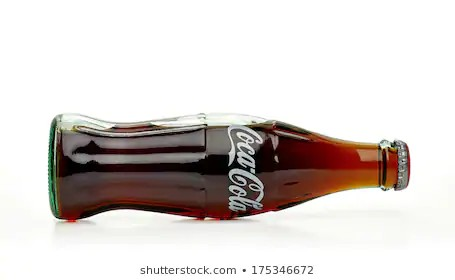coke-glass-bottle: (45, 111, 411, 223)
